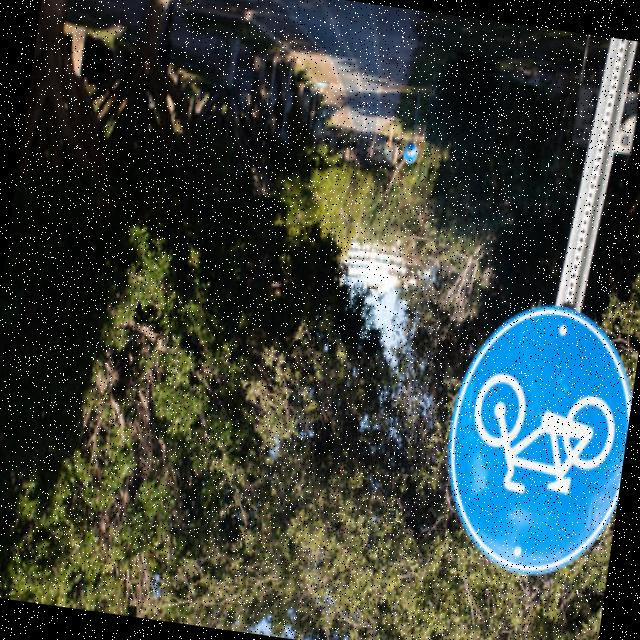bicycle: (429, 288, 640, 587)
